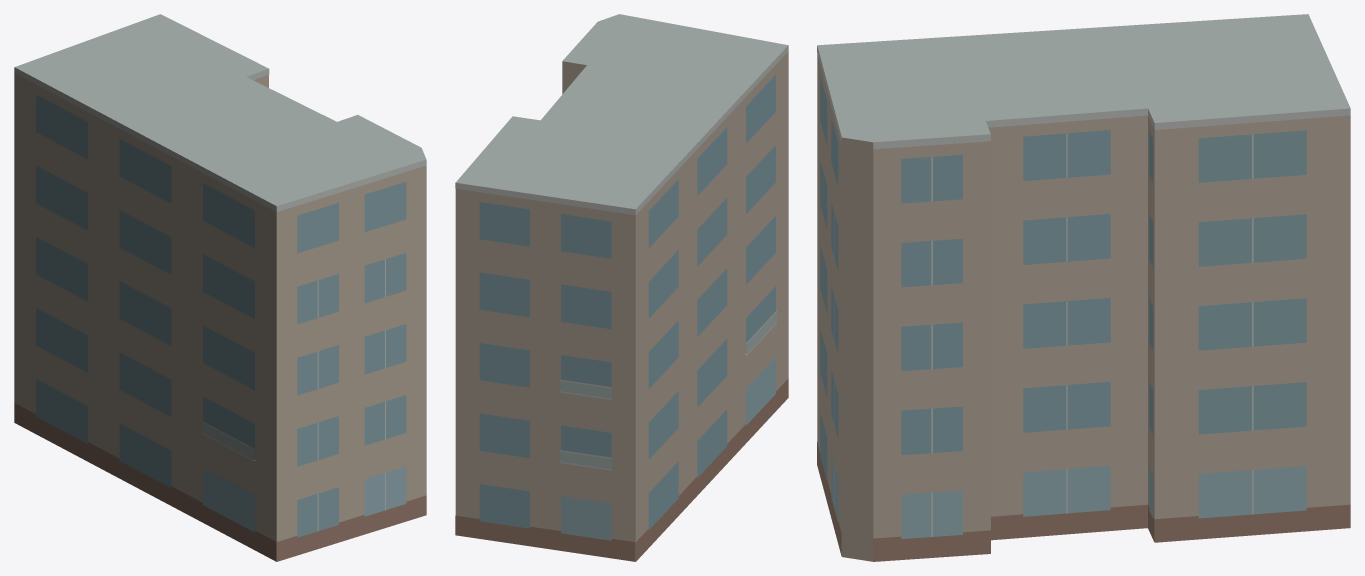
Rendered from survey-upis-32503814.glb.
The picture shows the model from 3 angles, left to right: view 1: azimuth 30°, elevation 25°; view 2: azimuth 150°, elevation 25°; view 3: azimuth 270°, elevation 25°; orthographic projection. The views are drawn at different scales.
Visible parts, largest first — view 1: survey-upis-32503814.tmp; view 2: survey-upis-32503814.tmp; view 3: survey-upis-32503814.tmp.
Part boxes in pixels (<box>): survey-upis-32503814.tmp: <box>14,14,426,561</box>; survey-upis-32503814.tmp: <box>455,14,788,561</box>; survey-upis-32503814.tmp: <box>817,14,1350,561</box>.
Size of the model in its own units: 9.62 by 14.65 by 16.9.
